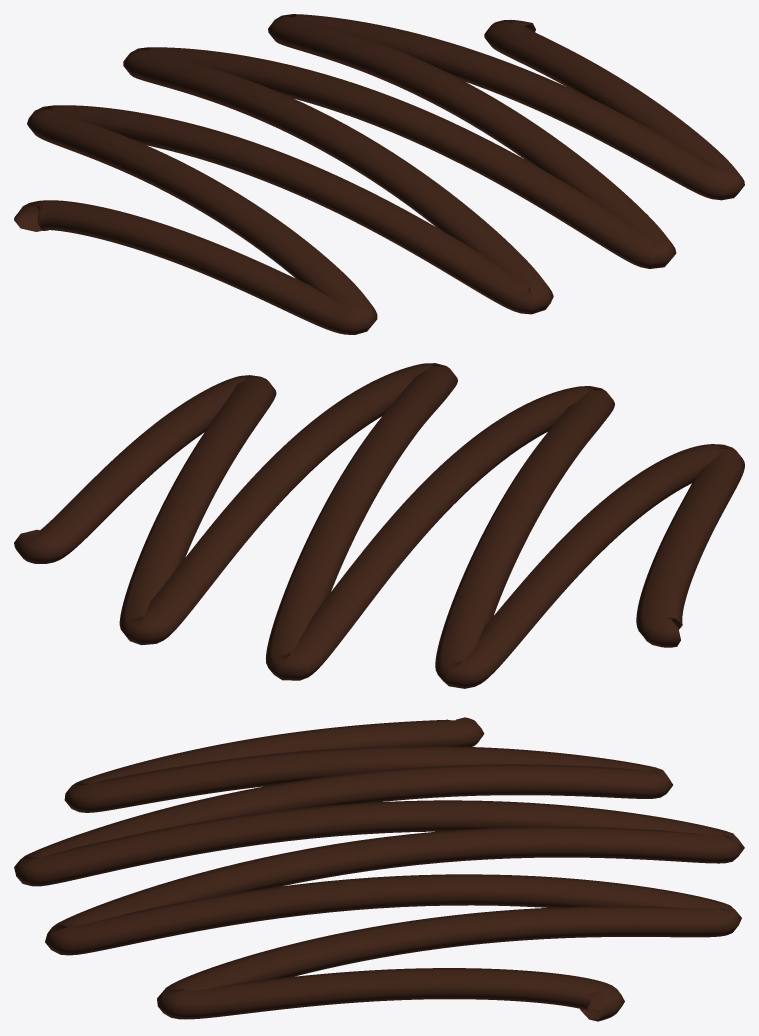
Rendered from calda_chocolate.glb.
The picture shows the model from 3 angles, top to bottom: view 1: azimuth 30°, elevation 25°; view 2: azimuth 150°, elevation 25°; view 3: azimuth 270°, elevation 25°; orthographic projection. The views are drawn at different scales.
Parts seen in each view (by area): view 1: calda_chocolate; view 2: calda_chocolate; view 3: calda_chocolate.
Part boxes in pixels (x1,y1,x2,y2): calda_chocolate: [14, 14, 744, 334]; calda_chocolate: [14, 363, 744, 688]; calda_chocolate: [14, 717, 744, 1021].
Size of the model in its own units: 0.8345 by 0.0931 by 0.8809.
Materials: 1 (1 with a texture image).
